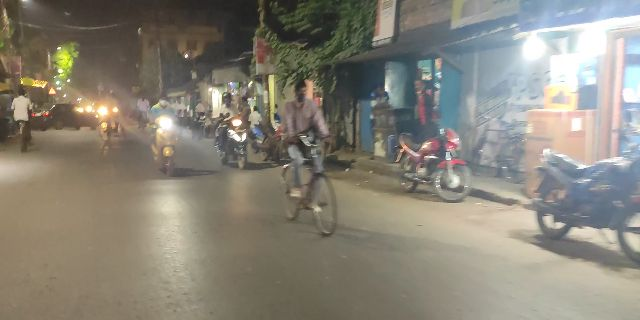Cycle: (268, 78, 353, 237)
Motorbike: (523, 150, 632, 246), (392, 130, 476, 205), (207, 89, 253, 169), (146, 92, 184, 178)
